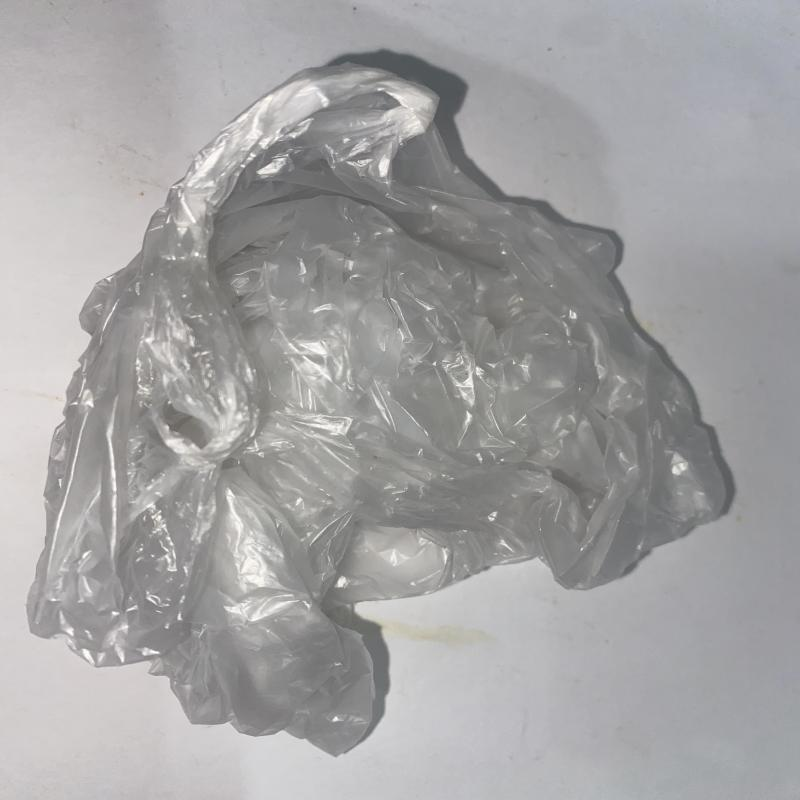plastic bag: (26, 50, 737, 761)
